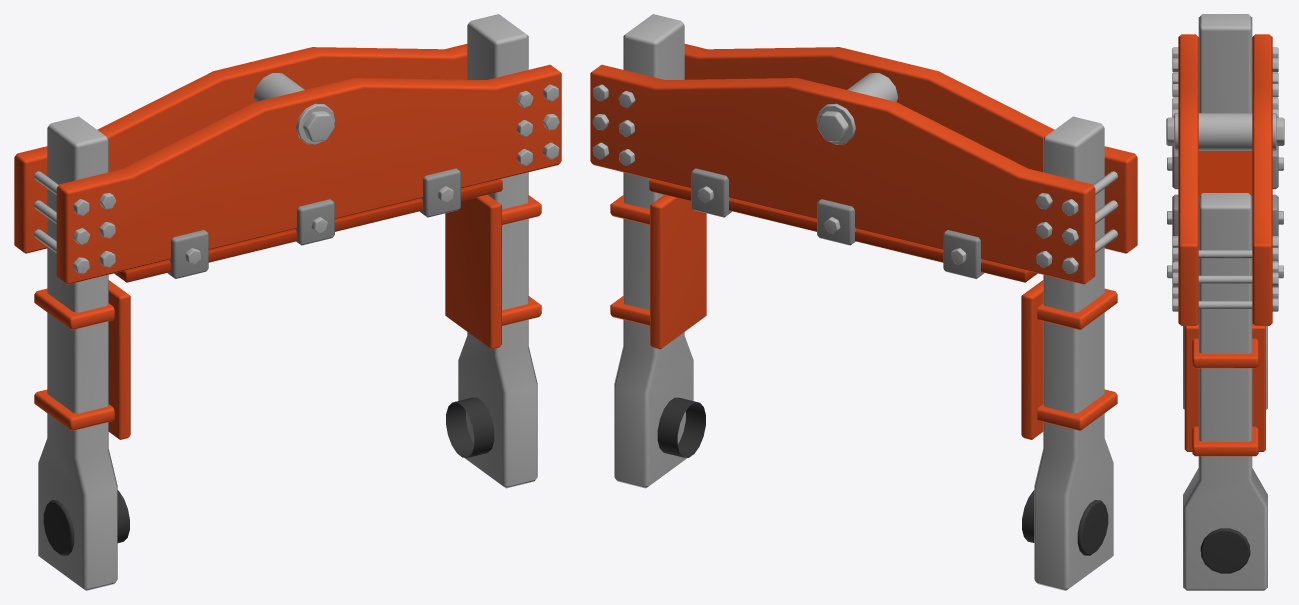
The model's file is meltingpot_002_002.fbx.
3 renders of one model, left to right at view 1: azimuth 30°, elevation 25°; view 2: azimuth 150°, elevation 25°; view 3: azimuth 270°, elevation 25°, orthographic. The views are drawn at different scales.
Visible parts, largest first — view 1: meltingpot_002_002; view 2: meltingpot_002_002; view 3: meltingpot_002_002.
Part boxes in pixels (x1=…): meltingpot_002_002: x1=14, y1=14, x2=561, y2=590; meltingpot_002_002: x1=590, y1=14, x2=1137, y2=590; meltingpot_002_002: x1=1166, y1=14, x2=1284, y2=590.
Size of the model in its own units: 981 by 232 by 836.
